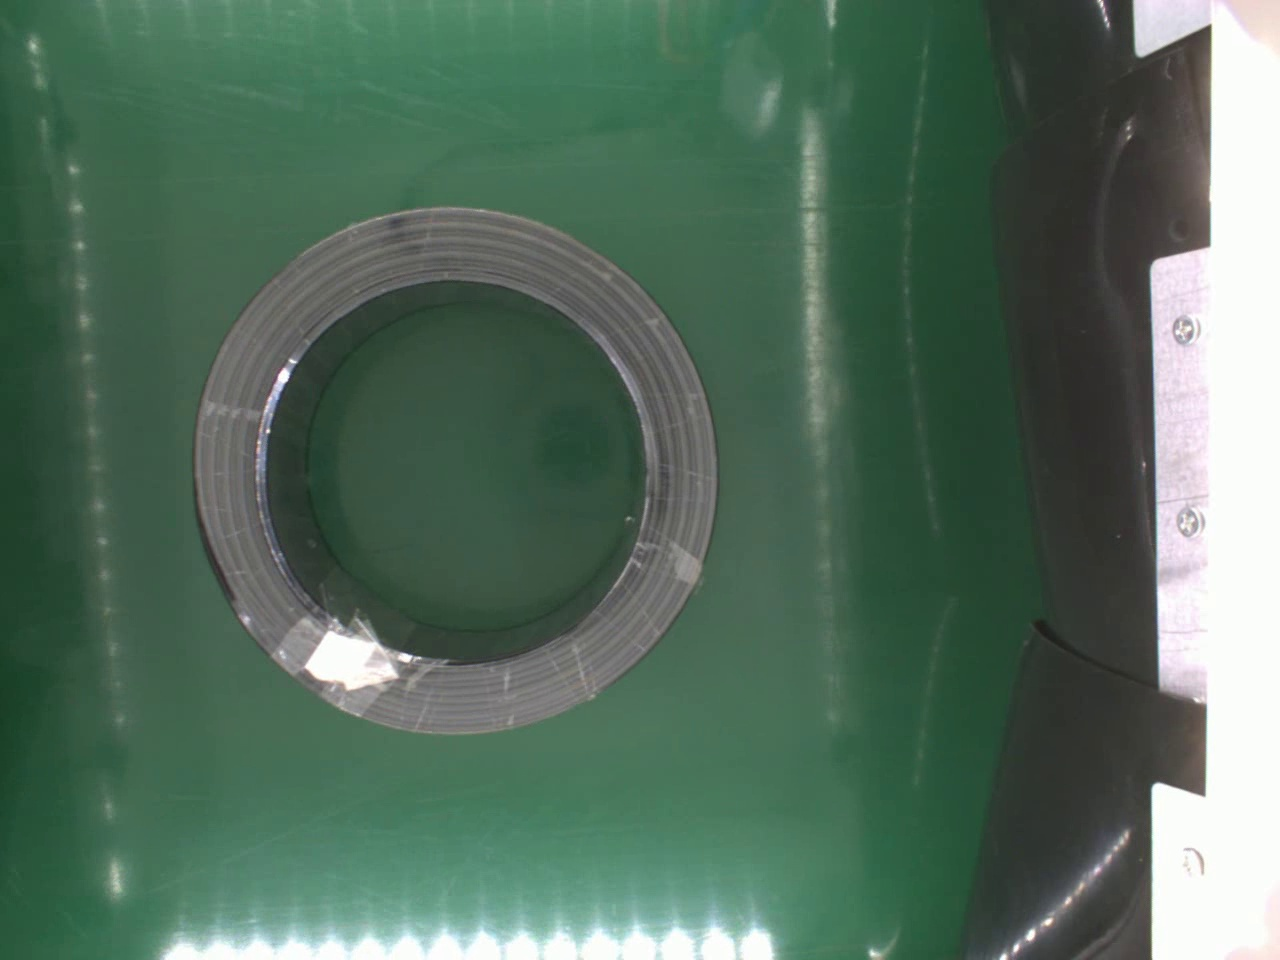black: (188, 201, 715, 749)
